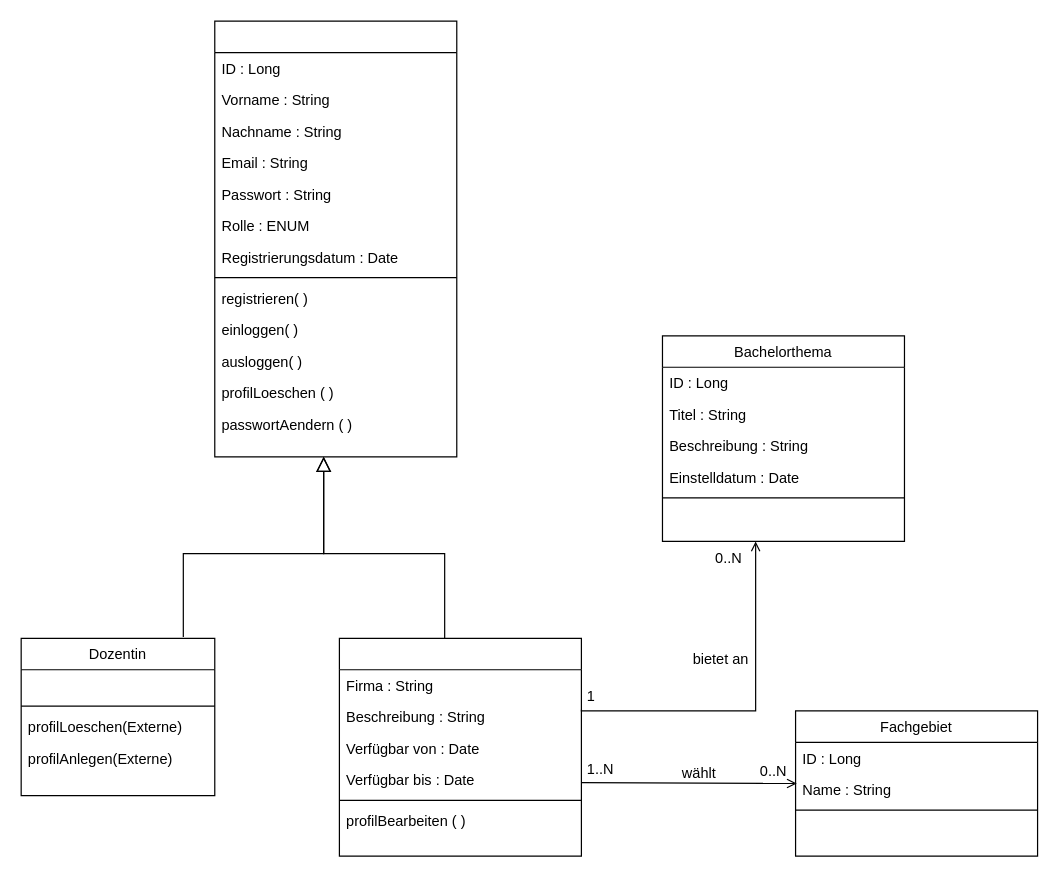
Some shapes in this 1059 by 877 pixel diagram are drawn without their labels. The shapes that lost their labels are listed below. From the top down, each one's box as (x1, y1, x2, y2) in pixels, then its label:
(214, 20, 457, 457): Userin
(338, 637, 581, 856): Externe
